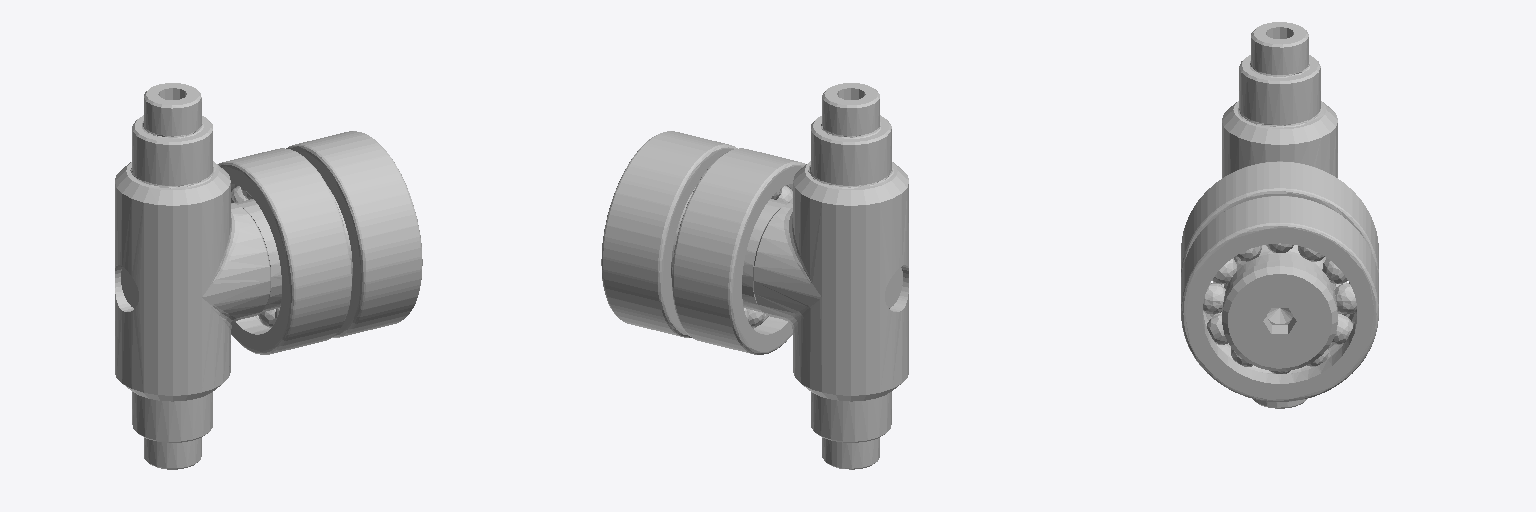
The model's file is head_roll_link.obj.
The picture shows the model from 3 angles: view 1: azimuth 30°, elevation 25°; view 2: azimuth 150°, elevation 25°; view 3: azimuth 270°, elevation 25°; orthographic projection.
Parts seen in each view (by area): view 1: head_roll_link; view 2: head_roll_link; view 3: head_roll_link.
Boxes of the visible parts, <box> form: head_roll_link: <box>115,83,422,469</box>; head_roll_link: <box>601,83,908,469</box>; head_roll_link: <box>1181,22,1378,408</box>.
Size of the model in its own units: 0.0265 by 0.0345 by 0.017.